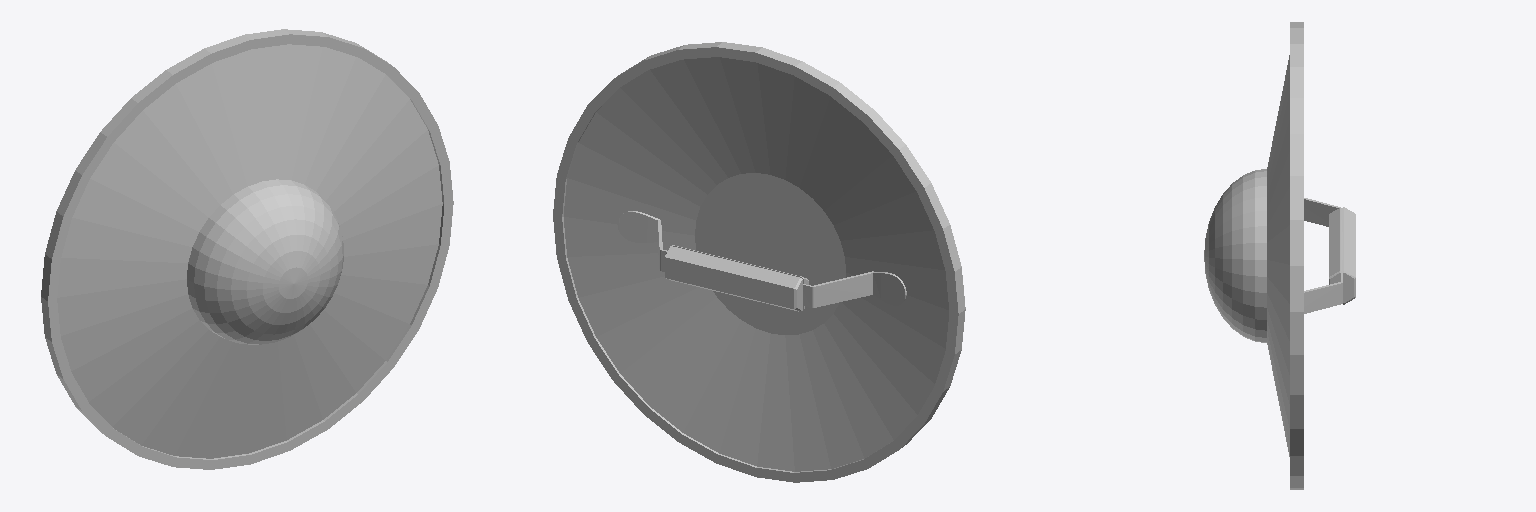
Rendered from shield.obj.
3 views of the same model, side by side, from view 1: azimuth 30°, elevation 25°; view 2: azimuth 150°, elevation 25°; view 3: azimuth 270°, elevation 25° (orthographic).
Visible parts, largest first — view 1: Bukcler_shield_JOINED_handle_wood_low_Cube.001; view 2: Bukcler_shield_JOINED_handle_wood_low_Cube.001; view 3: Bukcler_shield_JOINED_handle_wood_low_Cube.001.
Boxes of the visible parts, <box> form: Bukcler_shield_JOINED_handle_wood_low_Cube.001: <box>41,29,453,469</box>; Bukcler_shield_JOINED_handle_wood_low_Cube.001: <box>553,42,965,482</box>; Bukcler_shield_JOINED_handle_wood_low_Cube.001: <box>1204,22,1355,489</box>.
Size of the model in its own units: 3.37 by 3.37 by 1.09.